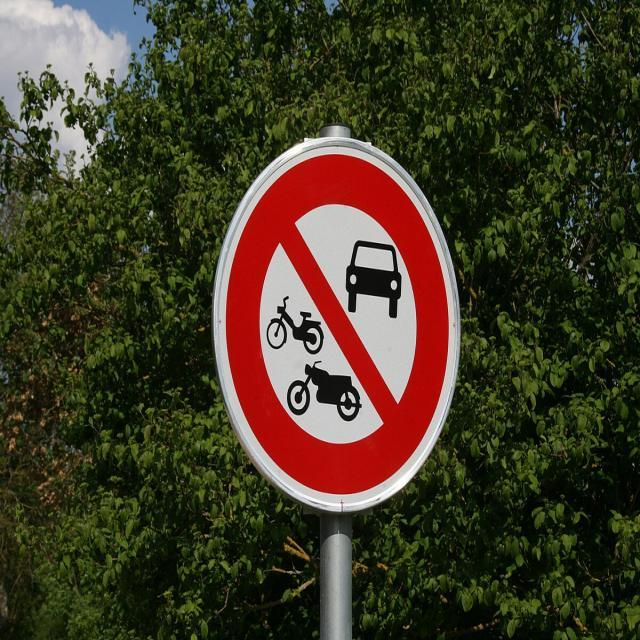all motor vehicle prohibited: (229, 157, 454, 515)
